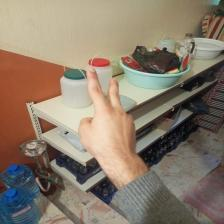two: (79, 66, 135, 163)
